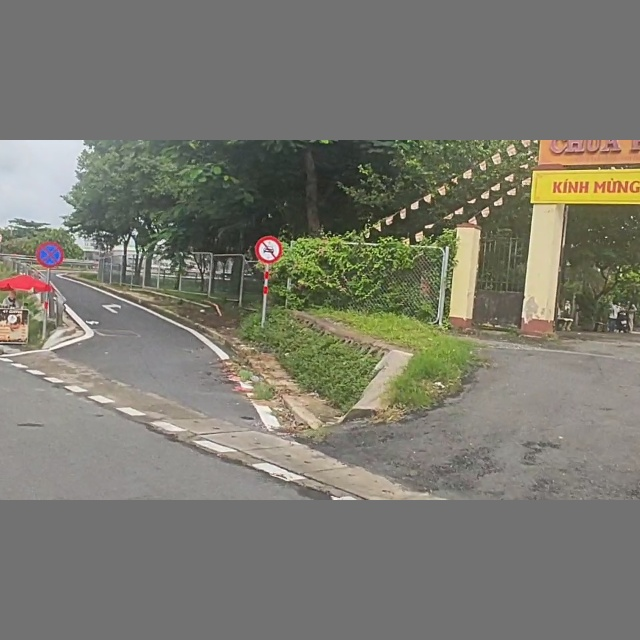P.103a: (255, 235, 283, 265)
P.130: (36, 241, 65, 269)
